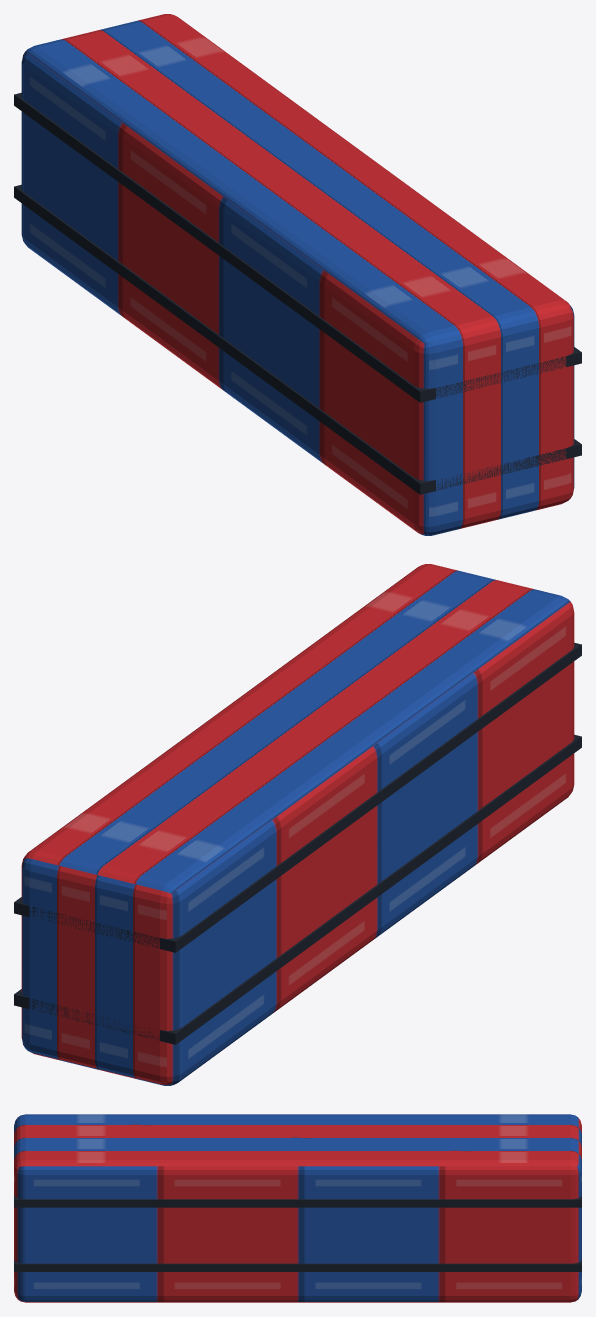
Rendered from tecpro_4m.glb.
3 views of the same model, one above another, from view 1: azimuth 30°, elevation 25°; view 2: azimuth 150°, elevation 25°; view 3: azimuth 270°, elevation 25° (orthographic). The views are drawn at different scales.
Visible parts, largest first — view 1: tecpro; view 2: tecpro; view 3: tecpro.
Part boxes in pixels (bbox=[...]): tecpro: bbox=[14, 14, 581, 535]; tecpro: bbox=[14, 564, 581, 1085]; tecpro: bbox=[14, 1114, 581, 1302].
Bounding box in the file's own units: 0.92 × 1.1 × 4.
2 materials, 1 textured.
